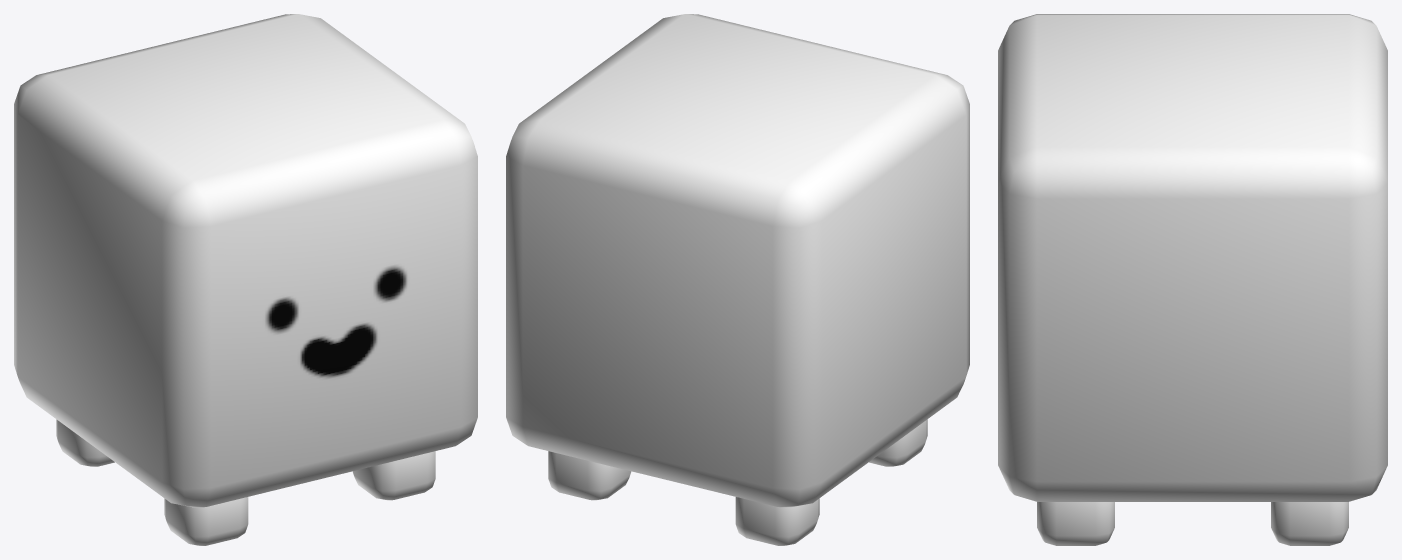
Rendered from basepet.fbx.
3 renders of one model, left to right at view 1: azimuth 30°, elevation 25°; view 2: azimuth 150°, elevation 25°; view 3: azimuth 270°, elevation 25°, orthographic. The views are drawn at different scales.
Parts seen in each view (by area): view 1: Cube; view 2: Cube; view 3: Cube.
Part boxes in pixels (left/top/right/bottom): Cube: left=14, top=14, right=477, bottom=545; Cube: left=506, top=14, right=969, bottom=545; Cube: left=998, top=14, right=1387, bottom=545.
Bounding box in the file's own units: 2 × 2.3 × 2.
1 material, 1 textured.
